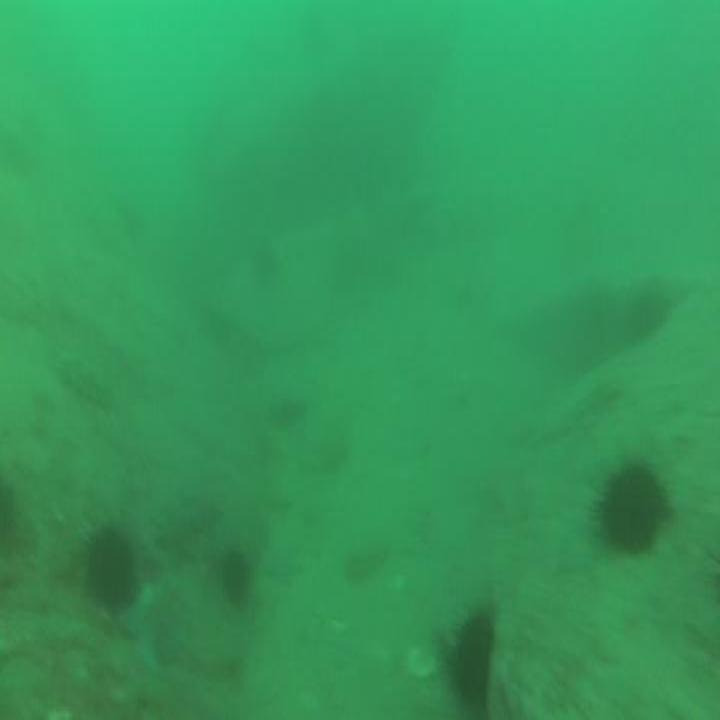echinus: (587, 450, 673, 562), (441, 602, 494, 720), (81, 523, 139, 617), (218, 540, 254, 614), (629, 288, 670, 341), (244, 228, 280, 286)
holothurian: (52, 343, 122, 416)
